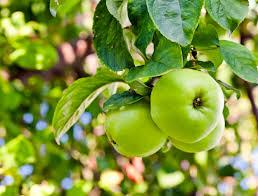apple: (148, 66, 226, 144), (104, 92, 169, 157)
